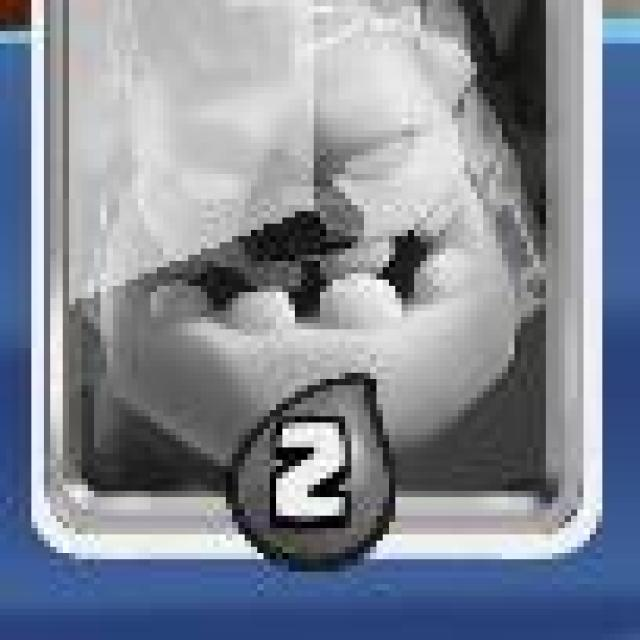Ice_Golem: (27, 0, 605, 565)
